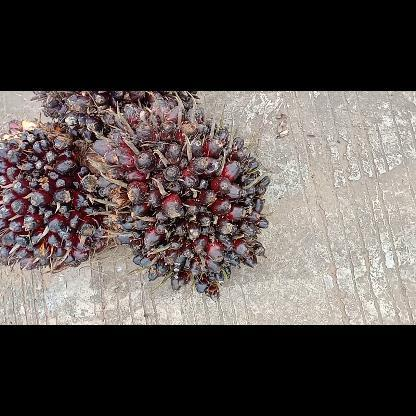TBS mentah: (93, 102, 273, 304), (0, 116, 120, 272)
